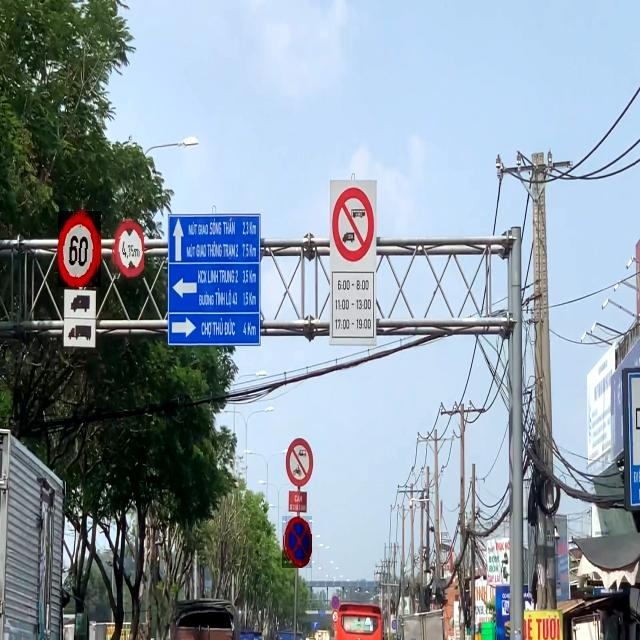bien_cam: (58, 211, 101, 287), (111, 218, 144, 279), (282, 516, 312, 568)
